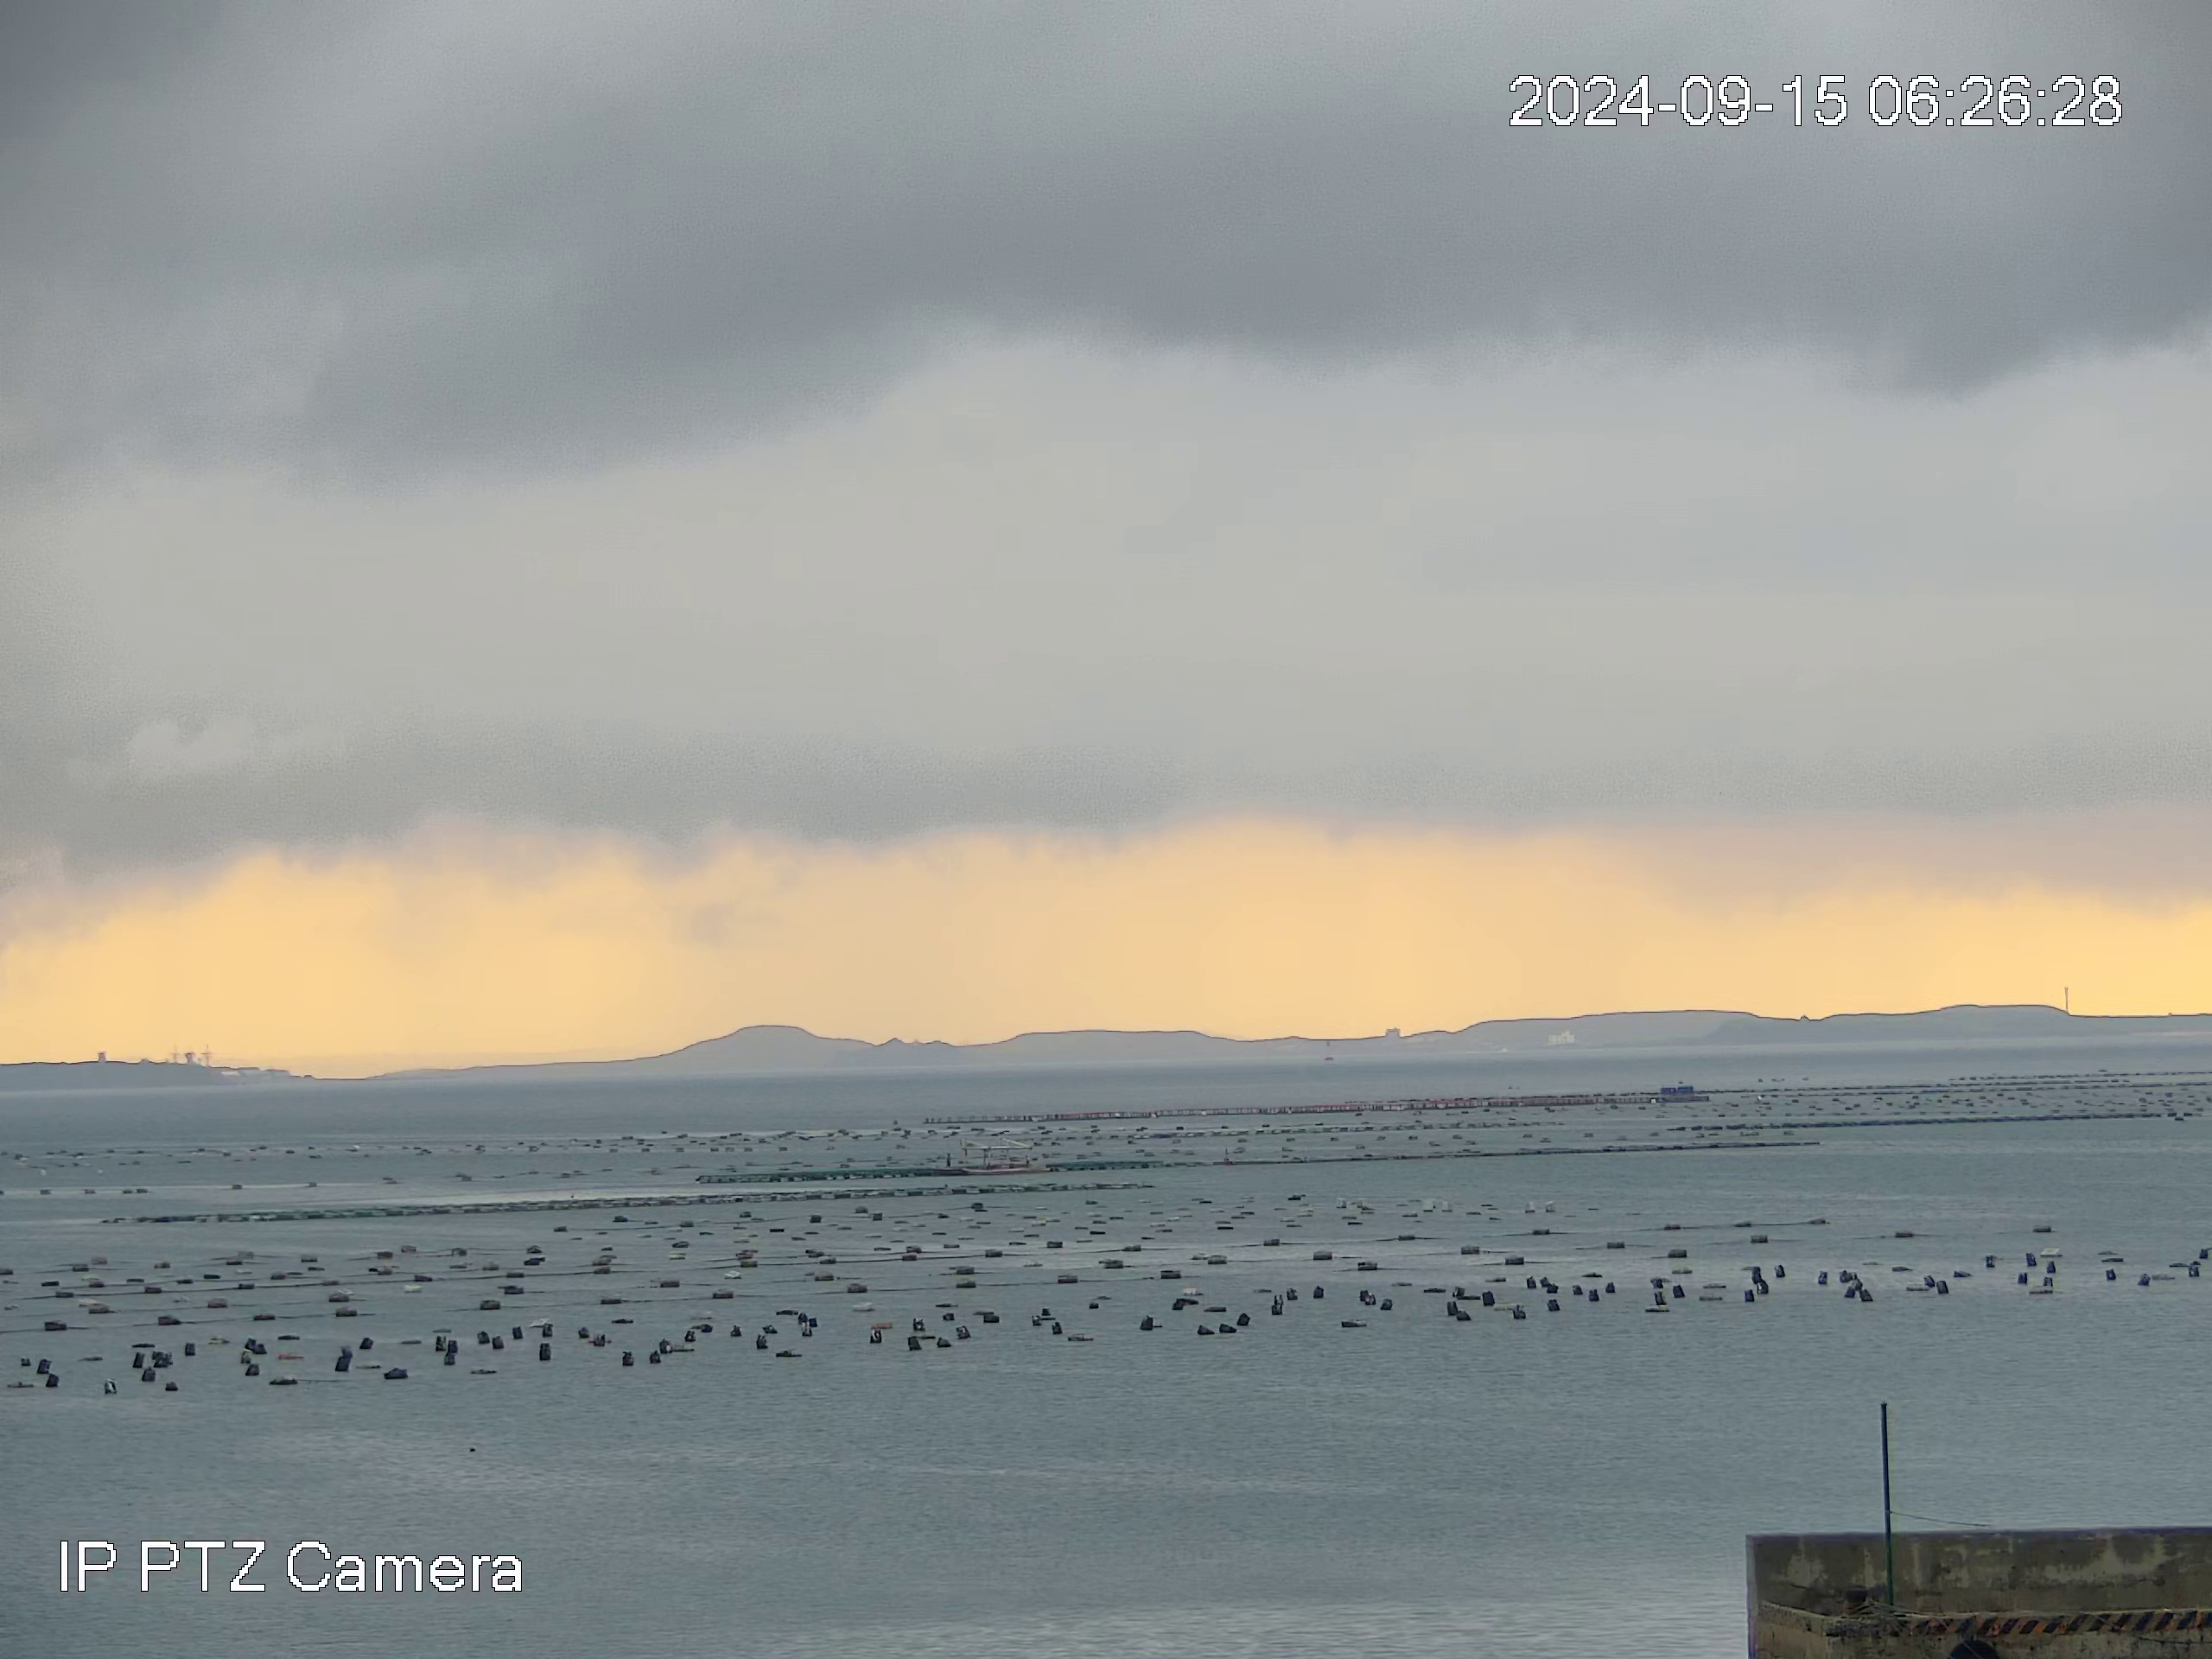boat: (957, 1134, 1052, 1176)
